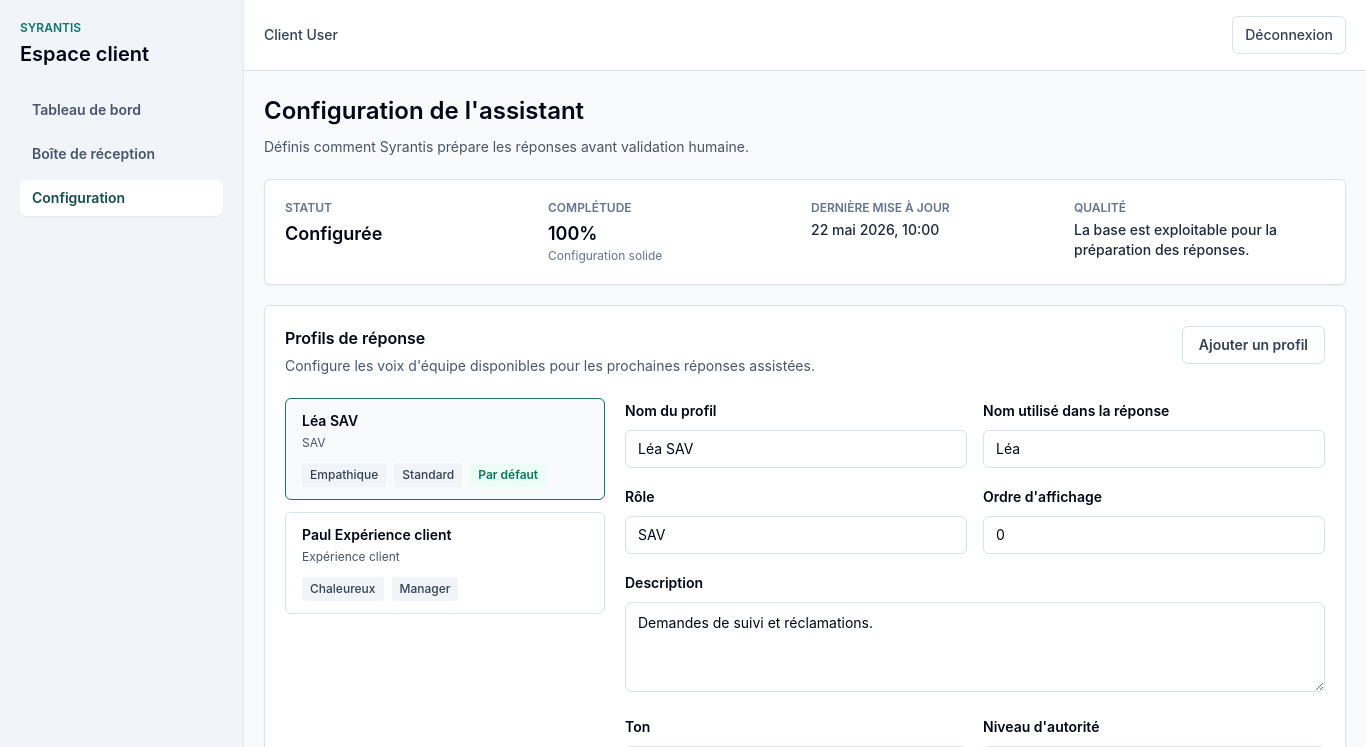
Test: admin app › shows response profile validation errors and blocks default deactivation
Clear the field labelled "Nom du profil". click: [796, 449]
box: [625,430,967,468]
(page scrolled)
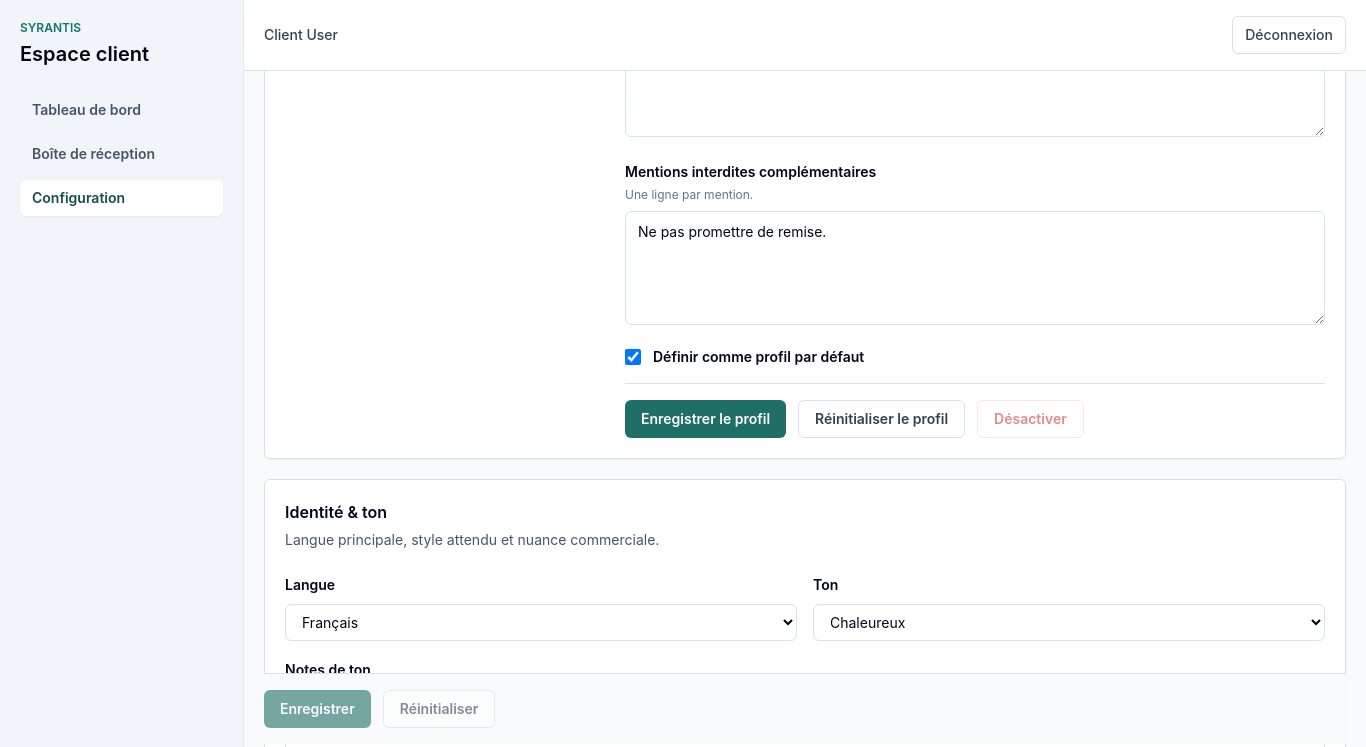
expect the button "Désactiver" is disabled: met, box [977,400,1084,438]
Click the button "Enregistrer le profil". click: [706, 419]
box: [625,400,786,438]
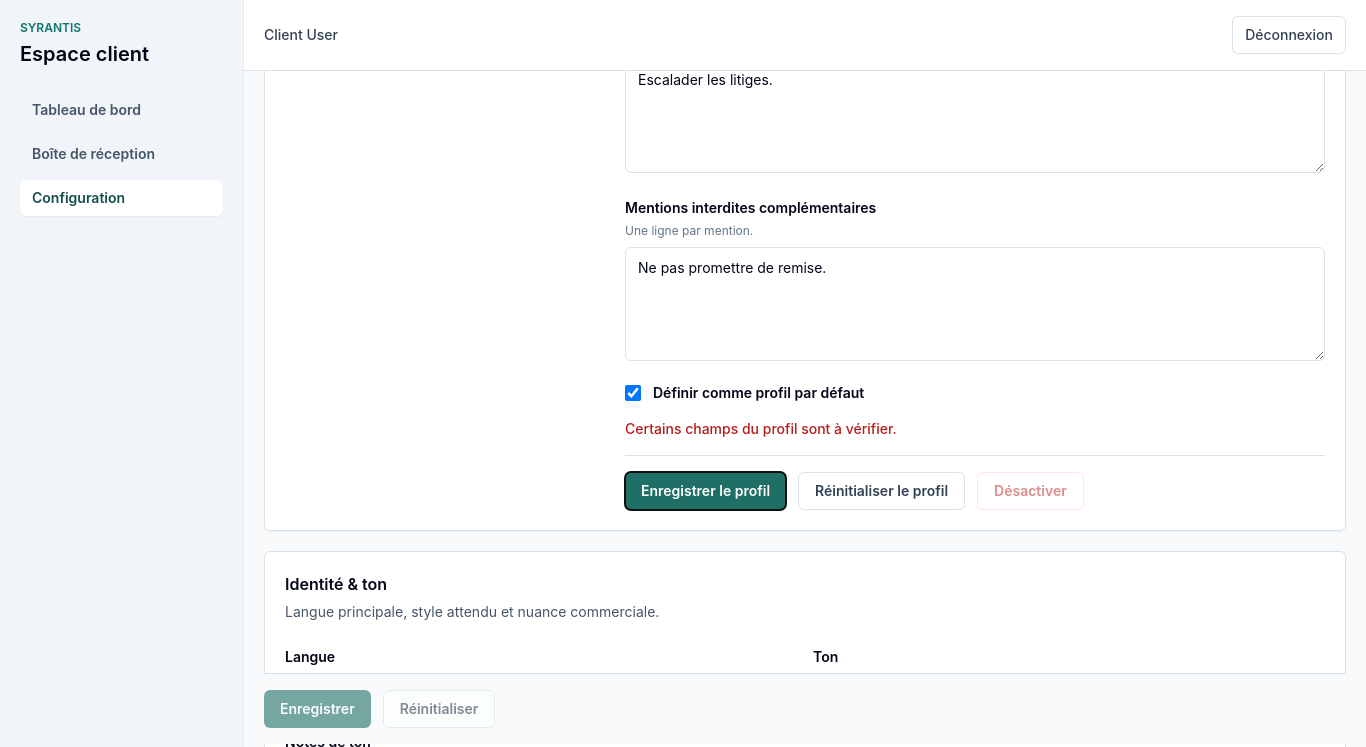
expect the text "Certains champs du profil sont à vérifier." is shown: met, box [625,420,897,437]
